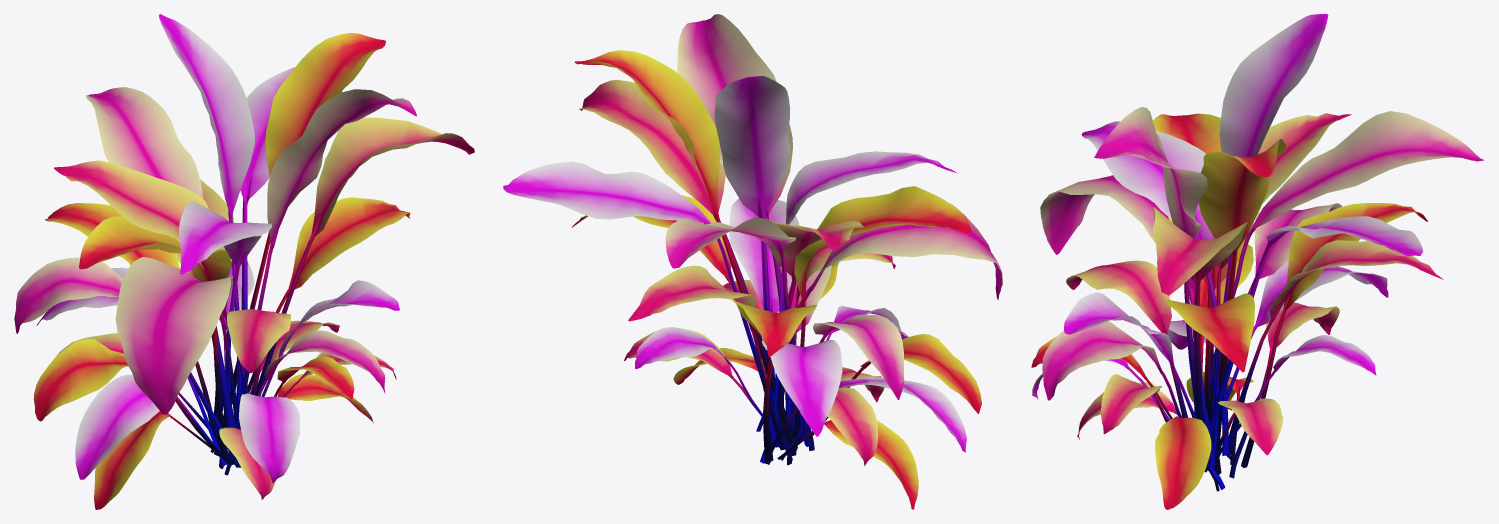
File: Bamboo.FBX
The picture shows the model from 3 angles, left to right: view 1: azimuth 30°, elevation 25°; view 2: azimuth 150°, elevation 25°; view 3: azimuth 270°, elevation 25°; orthographic projection. The views are drawn at different scales.
Parts seen in each view (by area): view 1: Object175; view 2: Object175; view 3: Object175.
Part boxes in pixels (x1,y1,x2,y2): Object175: (14, 14, 474, 509); Object175: (503, 14, 1002, 509); Object175: (1031, 14, 1483, 509).
Size of the model in its own units: 1.27 by 1.12 by 1.27.
